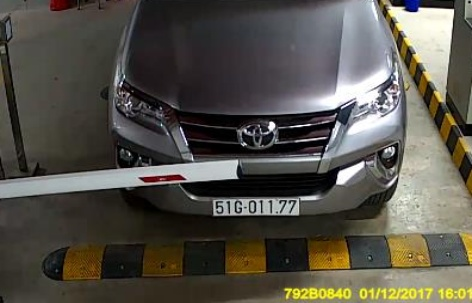plate: (211, 191, 300, 221)
